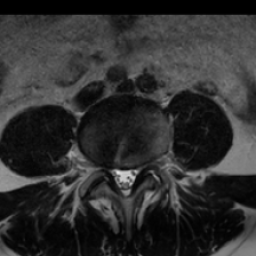CCS_normal: (118, 160, 129, 199)
LFS_severe_stenosis: (139, 157, 147, 177)
LLS_stenosis: (127, 159, 139, 189)
RFS_severe_stenosis: (101, 157, 109, 182)
RLS_normal: (109, 159, 119, 187)
